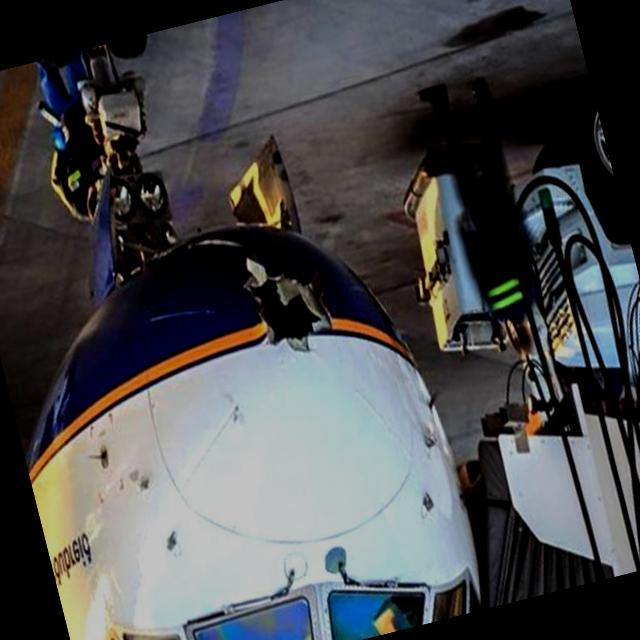crack: (236, 239, 342, 370)
